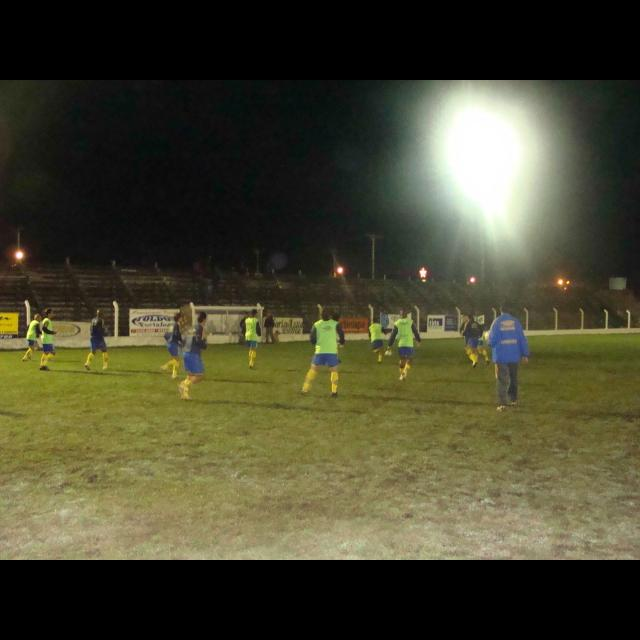Football: (384, 349, 392, 355)
